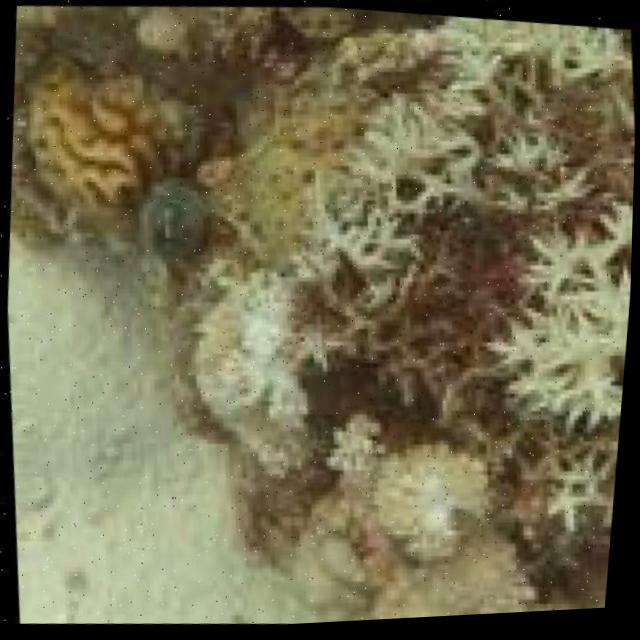Bleached Coral: (111, 0, 640, 635)
